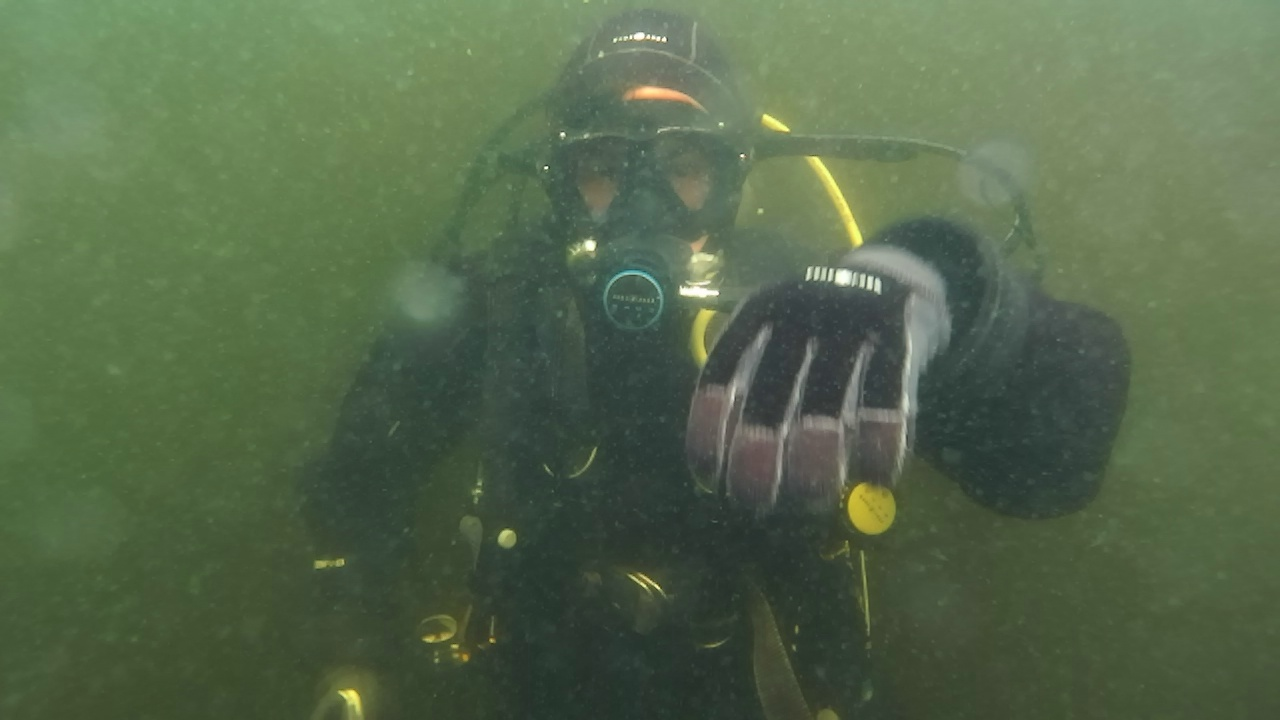Hand: (672, 242, 956, 524)
Head: (544, 20, 744, 320)
